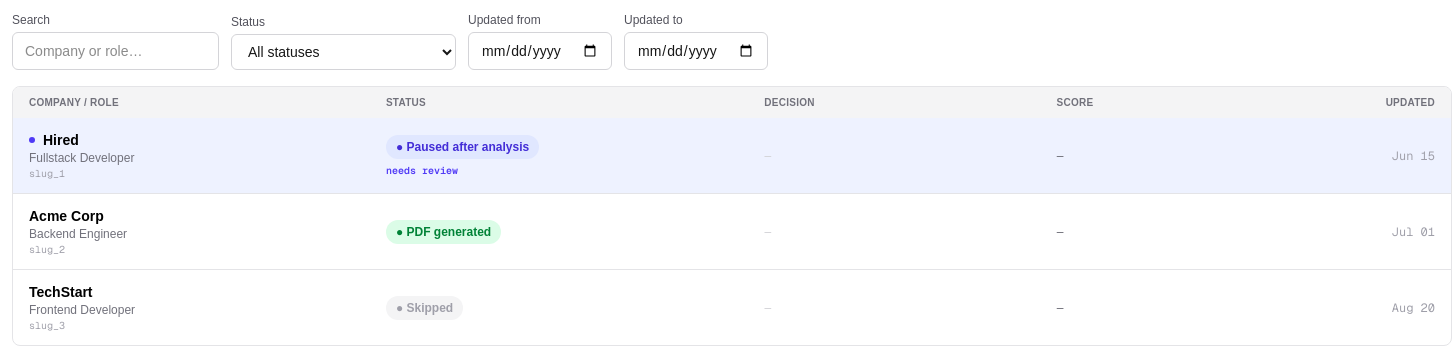
WorkspaceListFilters › typing a query shows only the matching workspace's company name
Step 1. Type "hired" into the field labelled "Search" → (116, 51), box [12, 32, 219, 70]
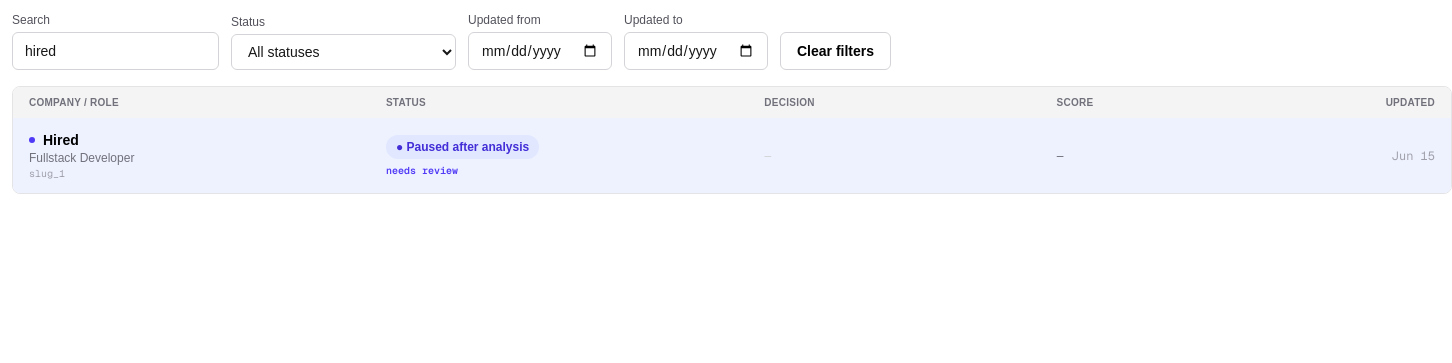
Expected: the link "Hired" is shown, [43, 130, 79, 150]
Expected: the link "Acme Corp" is gone
Expected: the link "TechStart" is gone
